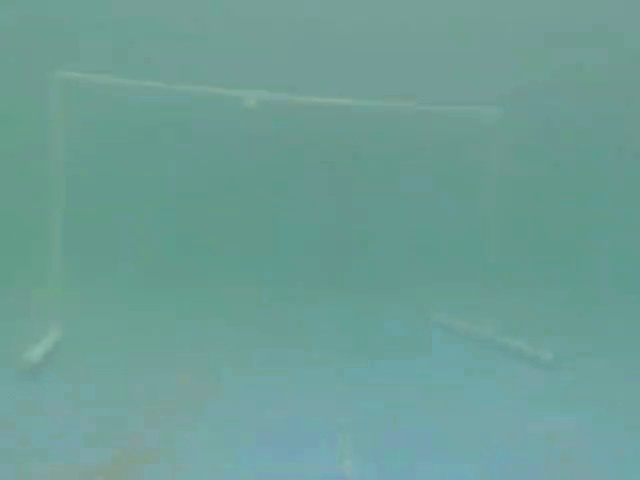gate: (10, 63, 563, 383)
